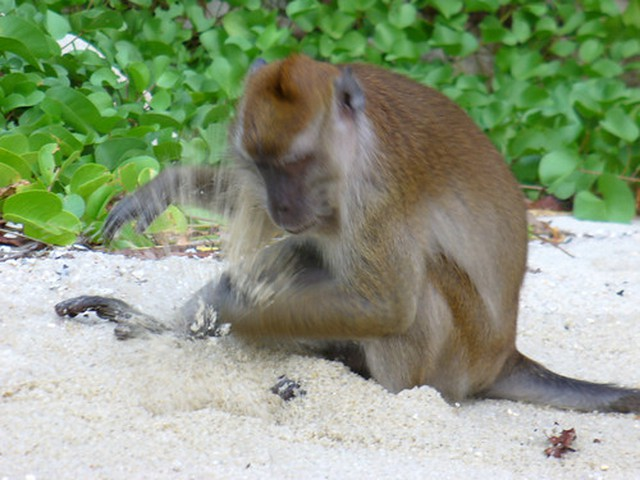Monkey: (92, 56, 598, 408)
